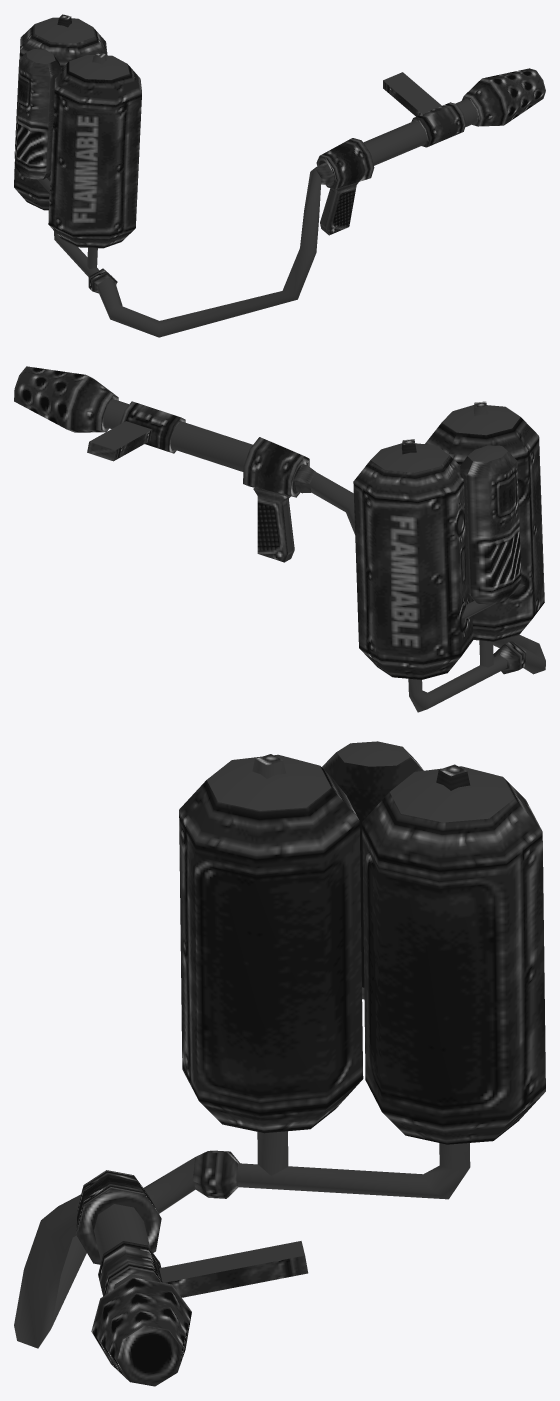
The model's file is p_egon.glb.
3 renders of one model, top to bottom at view 1: azimuth 30°, elevation 25°; view 2: azimuth 150°, elevation 25°; view 3: azimuth 270°, elevation 25°, orthographic. The views are drawn at different scales.
Visible parts, largest first — view 1: p_egon; view 2: p_egon; view 3: p_egon.
Boxes of the visible parts, x1,y1,x2,y2 form: p_egon: [14, 14, 545, 337]; p_egon: [14, 366, 545, 712]; p_egon: [14, 741, 545, 1386].
Size of the model in its own units: 49.8 by 25.7 by 25.22.
Materials: 2 (2 with a texture image).
